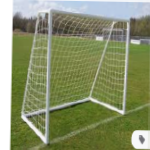goals: (21, 9, 130, 142)
